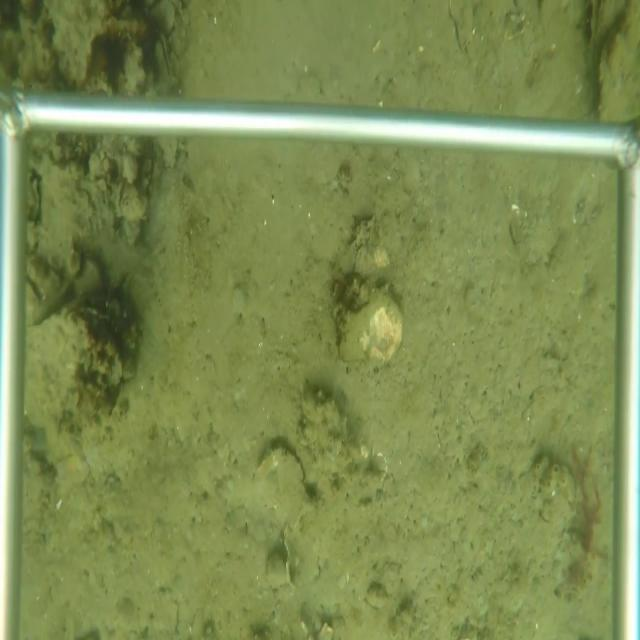Oyster-Indeterminate: (331, 279, 409, 366), (248, 440, 308, 513)
Oyster-Open: (153, 31, 178, 84)
